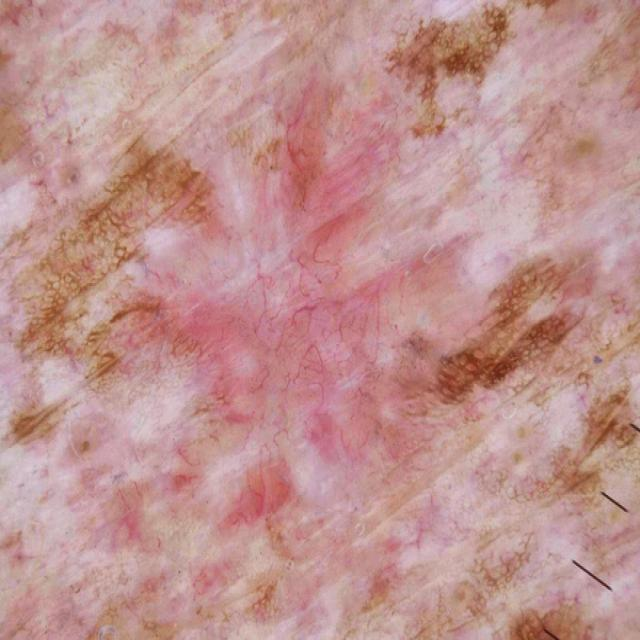Basal-Cell-Carcinoma-BCC-: (33, 44, 609, 612)
